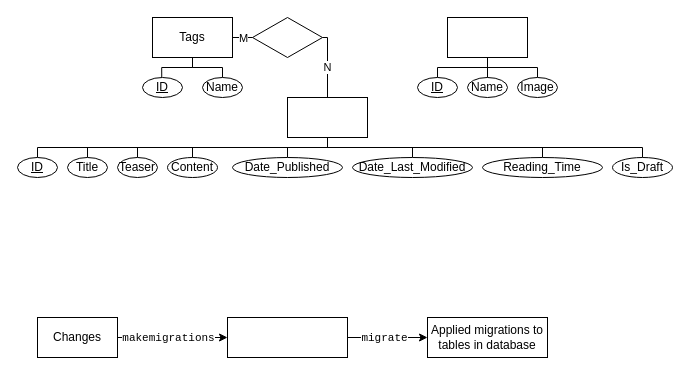
Image size: 690x375. Some labels were removed from this diagram. The centre of each missing label's shape, as x and y in pixels:
"has" belongs at (x=287, y=37).
"Images" belongs at (x=487, y=37).
"New (unapplied) migrations" belongs at (x=287, y=337).
"Posts" belongs at (x=327, y=117).
